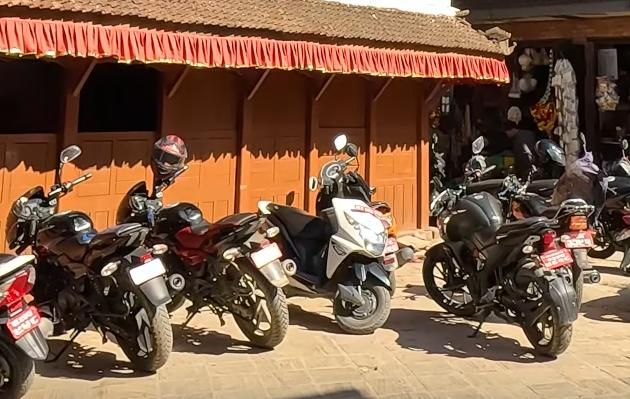bike: (3, 135, 176, 391), (415, 129, 575, 361), (116, 153, 292, 352)
